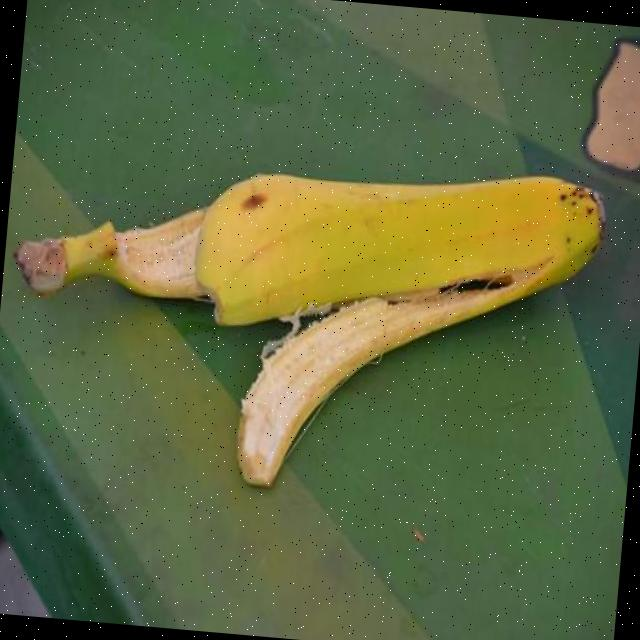banana-peel: (0, 125, 609, 514)
